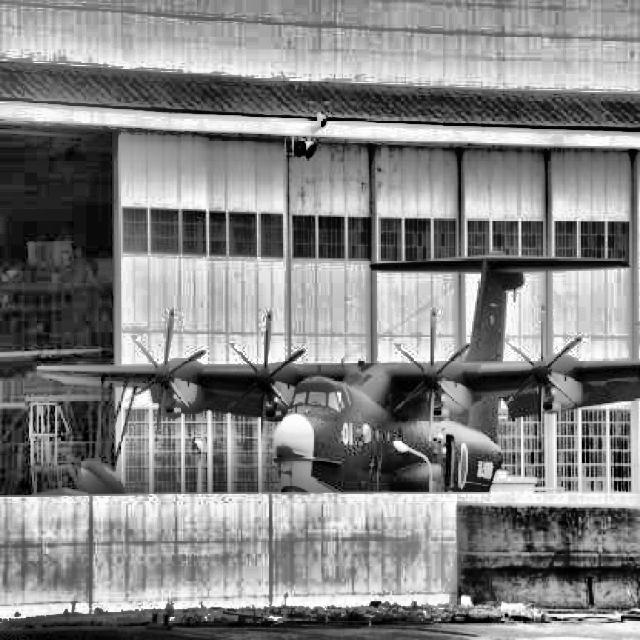US2: (36, 245, 639, 493)
